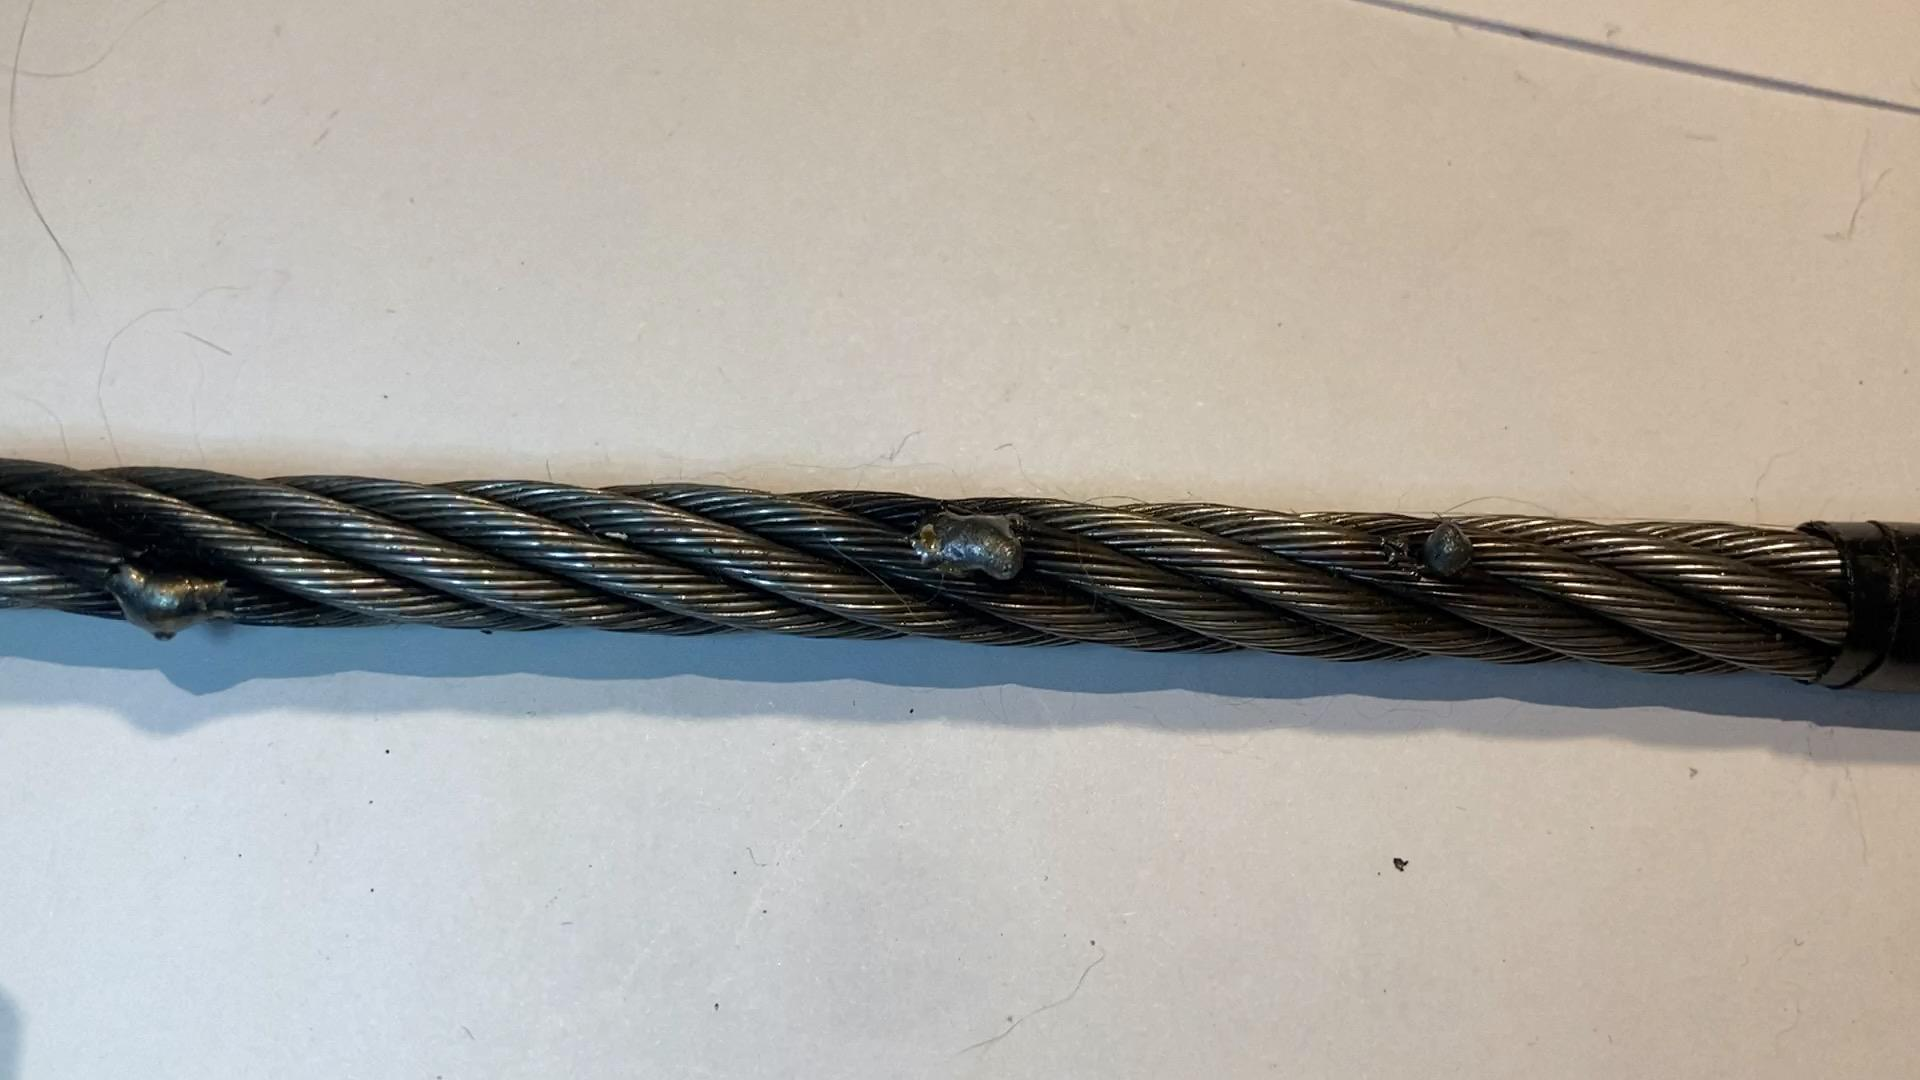thunderbolt: (1358, 460, 1494, 596), (885, 487, 1025, 584), (121, 556, 261, 641)
